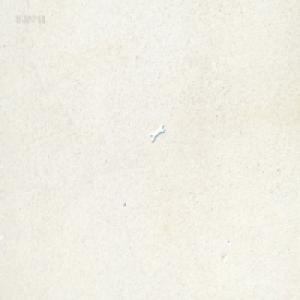Wrench: (149, 124, 165, 141)
